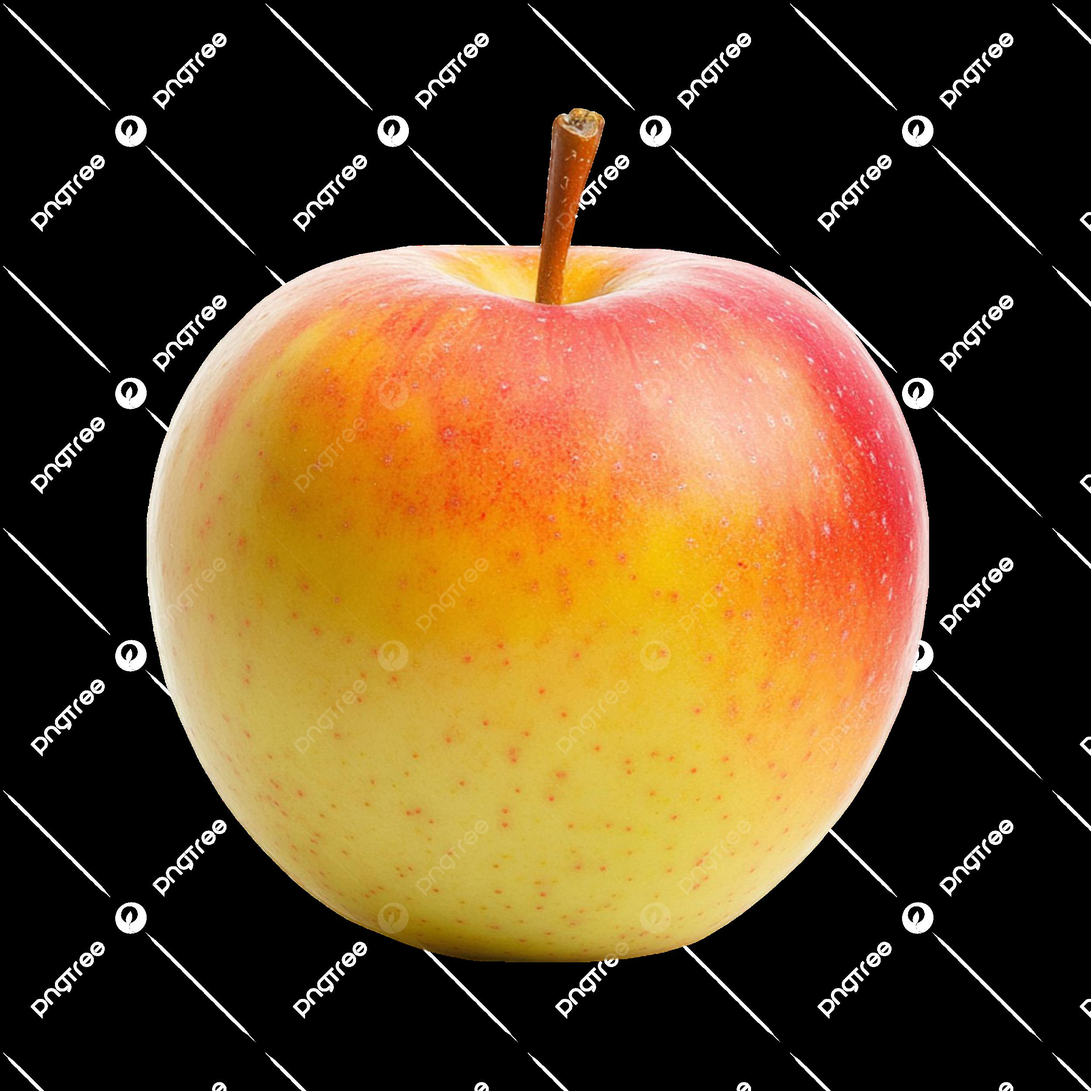apples: (160, 108, 929, 987)
